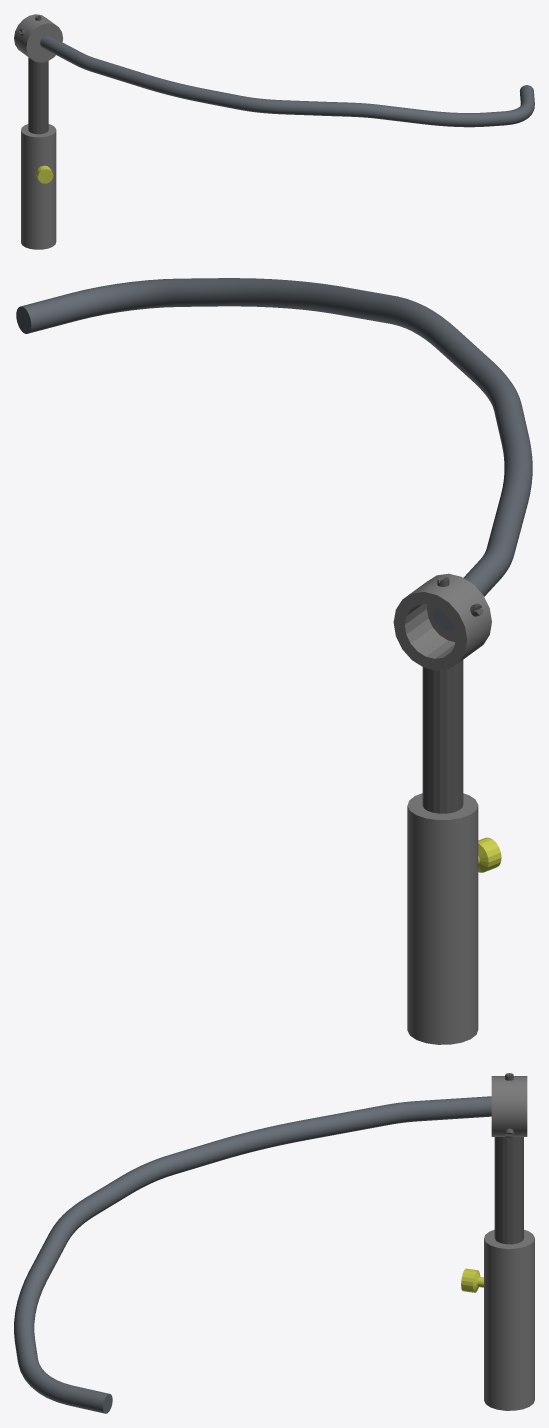
File: Optical_channel_2.glb
The picture shows the model from 3 angles, top to bottom: view 1: azimuth 30°, elevation 25°; view 2: azimuth 150°, elevation 25°; view 3: azimuth 270°, elevation 25°; orthographic projection. The views are drawn at different scales.
Parts seen in each view (by area): view 1: Line003, Cylinder362, Object027, Cylinder034; view 2: Line003, Cylinder362, Cylinder034, Object027; view 3: Line003, Cylinder362, Object027, Cylinder034, Object028.
Part boxes in pixels (box(x1,y1,x2,y2)): Line003: box(40, 35, 534, 127); Cylinder362: box(21, 124, 56, 249); Object027: box(28, 57, 48, 134); Cylinder034: box(14, 14, 63, 62); Line003: box(16, 278, 532, 629); Cylinder362: box(407, 793, 478, 1044); Cylinder034: box(393, 573, 491, 670); Object027: box(422, 660, 463, 813); Line003: box(14, 1096, 491, 1413); Cylinder362: box(484, 1229, 534, 1410); Object027: box(494, 1137, 523, 1244); Cylinder034: box(491, 1076, 527, 1136); Object028: box(461, 1268, 483, 1292).
Size of the model in its own units: 12.18 by 7.03 by 10.2.
